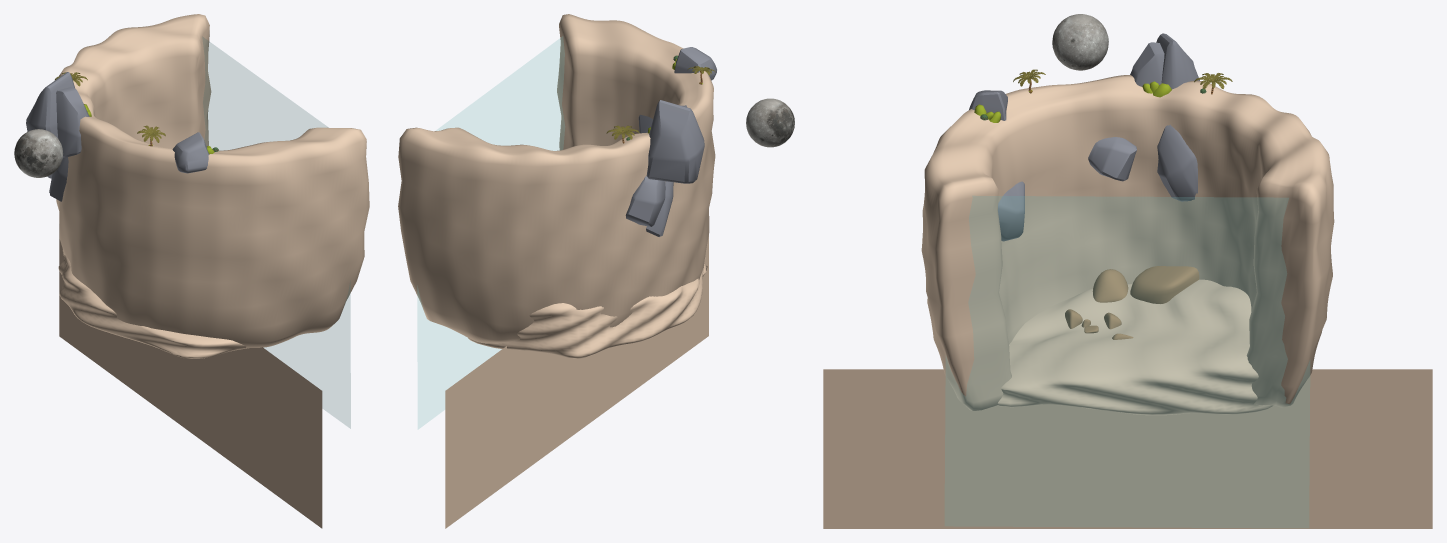
The model's file is OceanScene.glb.
3 views of the same model, side by side, from view 1: azimuth 30°, elevation 25°; view 2: azimuth 150°, elevation 25°; view 3: azimuth 270°, elevation 25° (orthographic). The views are drawn at different scales.
Visible parts, largest first — view 1: sand, bottomSand, water, bigRocks, sandFloor, Sphere; view 2: sand, bottomSand, water, sandFloor, bigRocks, Sphere; view 3: water, sand, bottomSand, sandFloor, bigRocks, seaRock, Sphere.
Boxes of the visible parts, left/top/right/bottom form: sand: left=56, top=14, right=369, bottom=347; bottomSand: left=59, top=224, right=322, bottom=528; water: left=202, top=37, right=350, bottom=428; bigRocks: left=26, top=72, right=209, bottom=201; sandFloor: left=58, top=249, right=248, bottom=358; Sphere: left=14, top=129, right=63, bottom=177; sand: left=398, top=14, right=715, bottom=343; bottomSand: left=445, top=235, right=708, bottom=528; water: left=417, top=36, right=564, bottom=428; sandFloor: left=468, top=258, right=707, bottom=358; bigRocks: left=625, top=47, right=716, bottom=236; Sphere: left=746, top=98, right=794, bottom=147; water: left=945, top=196, right=1309, bottom=527; sand: left=921, top=75, right=1334, bottom=410; bottomSand: left=823, top=369, right=1432, bottom=528; sandFloor: left=997, top=279, right=1273, bottom=415; bigRocks: left=969, top=33, right=1199, bottom=241; seaRock: left=1065, top=266, right=1199, bottom=339; Sphere: left=1052, top=14, right=1108, bottom=70.
Size of the model in its own units: 104 by 126 by 162.
16 materials, 1 textured.
